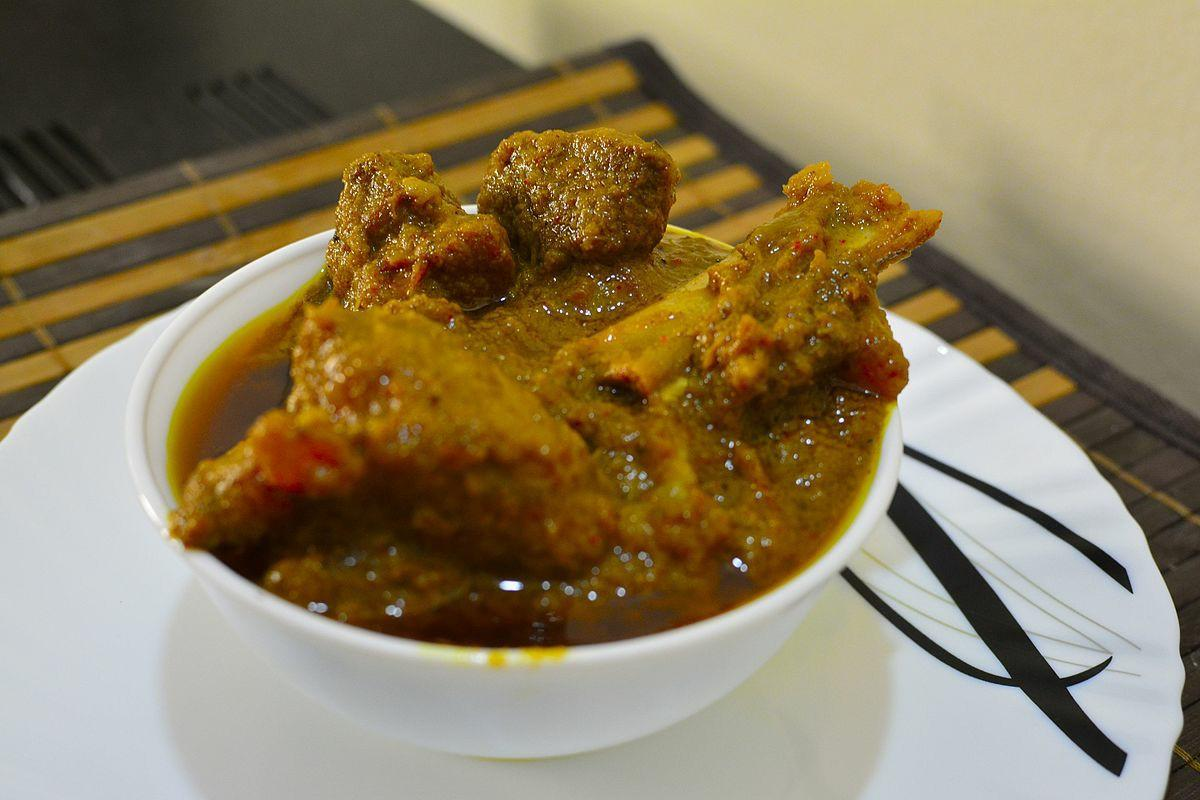MuttonCurry: (169, 123, 942, 648)
